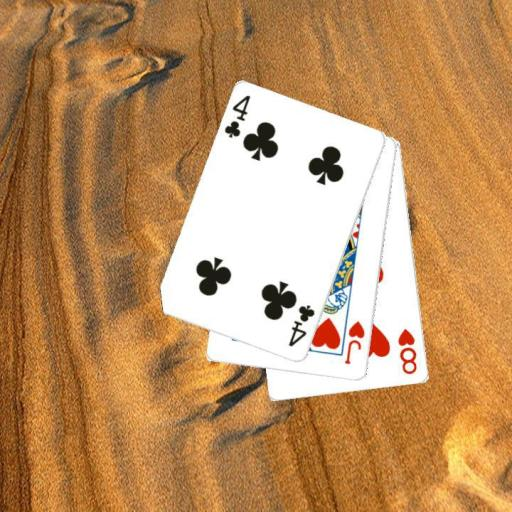4C: (221, 93, 253, 140), (285, 303, 317, 349)
8H: (395, 326, 419, 376)
JH: (342, 318, 367, 366)
